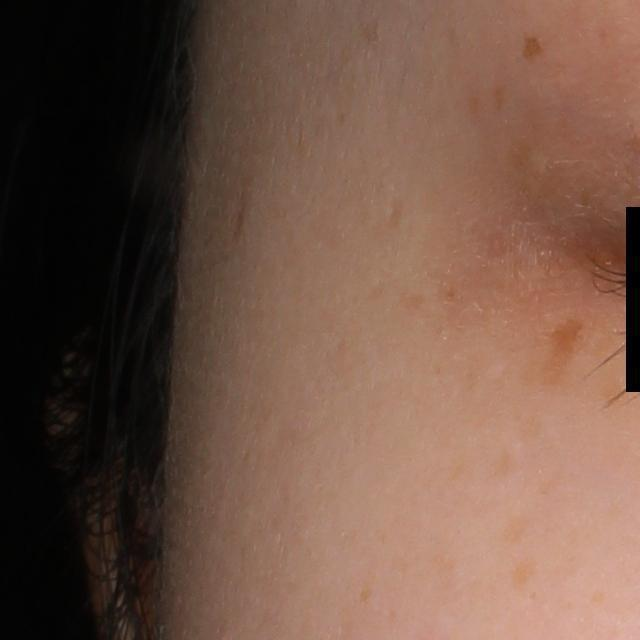melasma: (539, 314, 590, 380), (506, 553, 538, 596), (496, 510, 532, 548), (492, 446, 523, 482), (516, 32, 546, 65), (386, 199, 407, 232), (491, 82, 509, 113), (356, 583, 374, 609)
